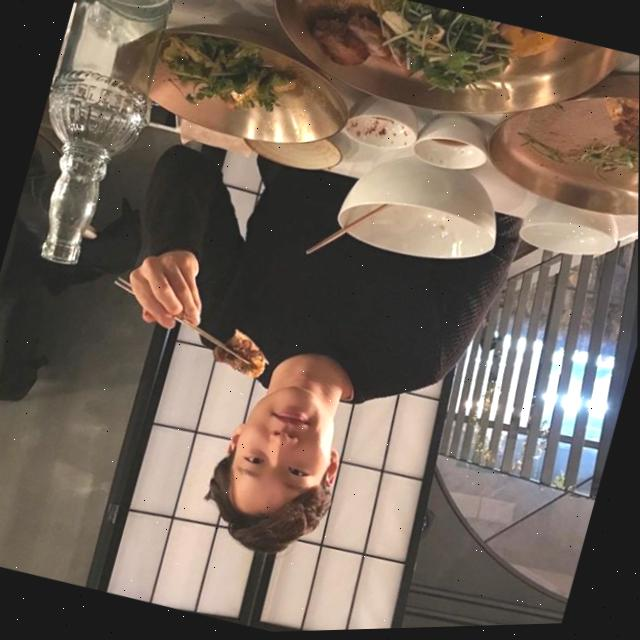eating-person: (43, 42, 568, 632)
